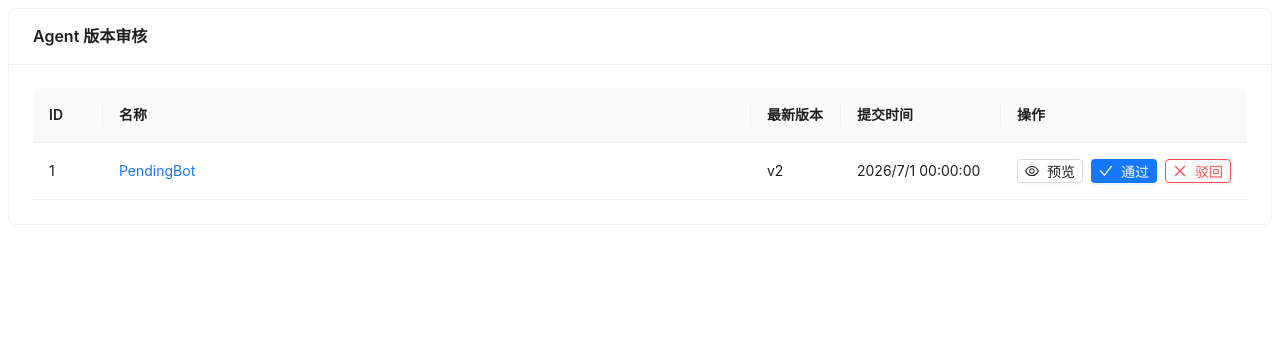
Scenario: AgentReviewPage › shows persistent feedback after approving an agent
Expected: the link "PendingBot" is shown, [119,162,195,179]
Click the button "通过": (1124, 171) [1091,159,1157,183]
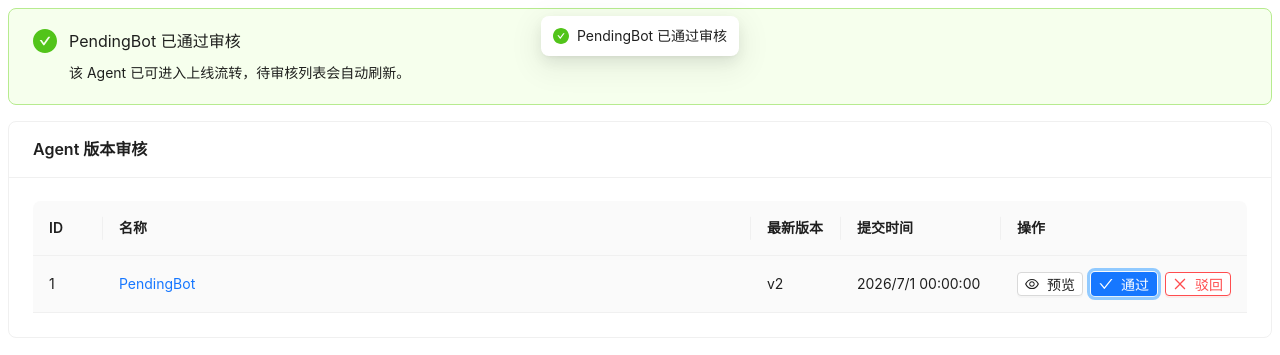
Result: the 1st text "PendingBot 已通过审核" is shown at [69,31,241,51]
Result: the text "该 Agent 已可进入上线流转，待审核列表会自动刷新。" is shown at [69,64,410,81]
